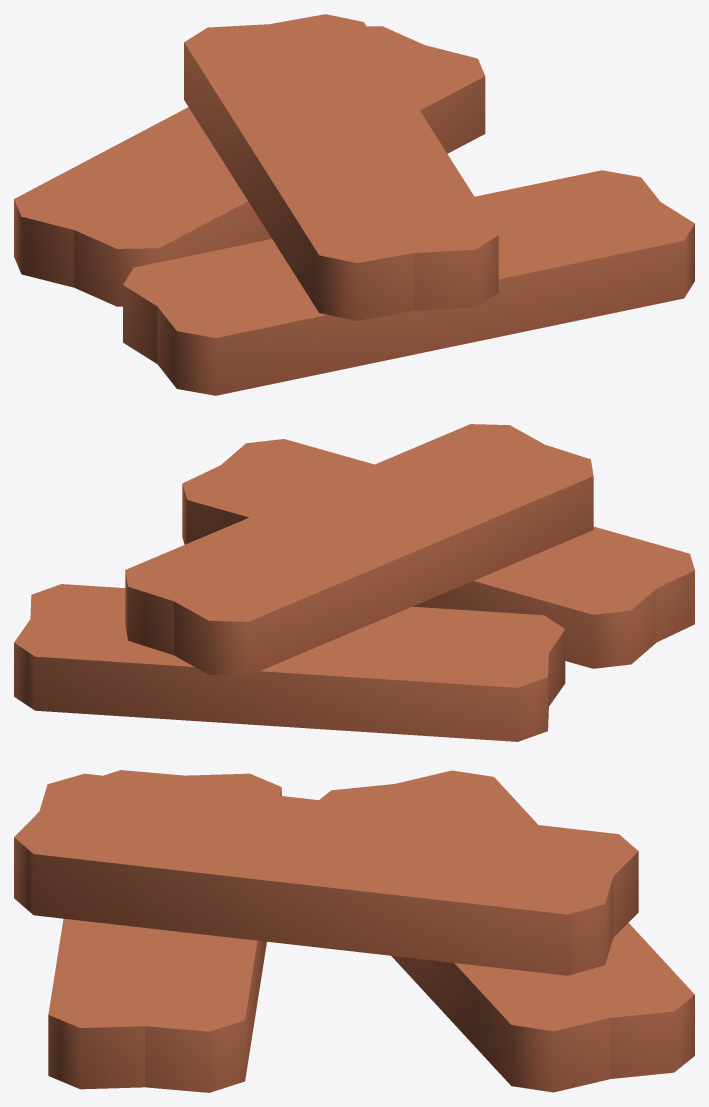
File: debris-wood.glb
3 renders of one model, top to bottom at view 1: azimuth 30°, elevation 25°; view 2: azimuth 150°, elevation 25°; view 3: azimuth 270°, elevation 25°, orthographic. The views are drawn at different scales.
Visible parts, largest first — view 1: debris-wood; view 2: debris-wood; view 3: debris-wood.
Part boxes in pixels (x1,y1,x2,y2): debris-wood: (14, 14, 694, 395); debris-wood: (14, 424, 694, 741); debris-wood: (14, 770, 694, 1092).
Size of the model in its own units: 0.4585 by 0.1 by 0.5042.
Materials: 1 (1 with a texture image).
